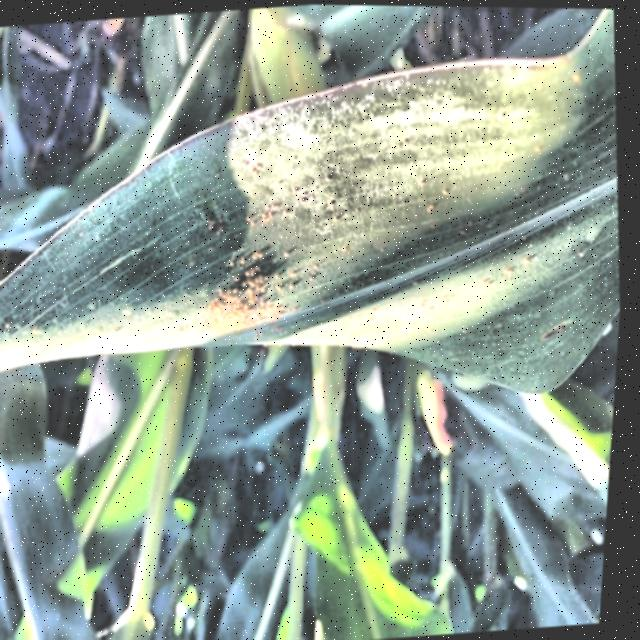common_rust: (0, 9, 620, 398)
